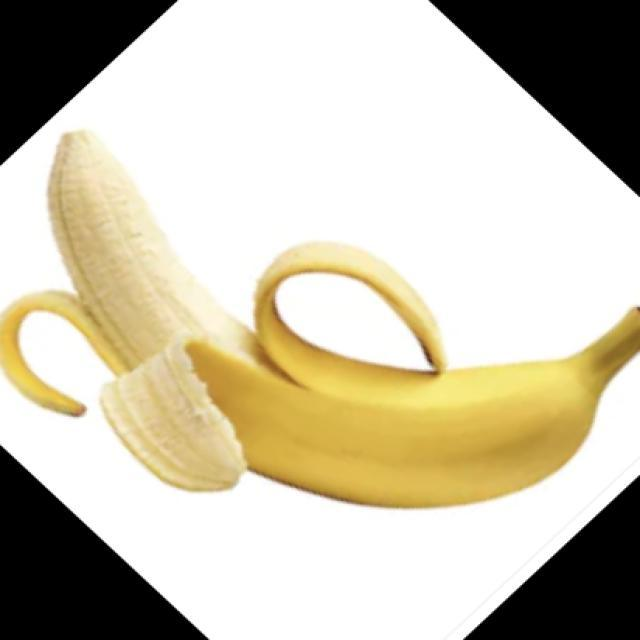Banana: (0, 127, 639, 508)
